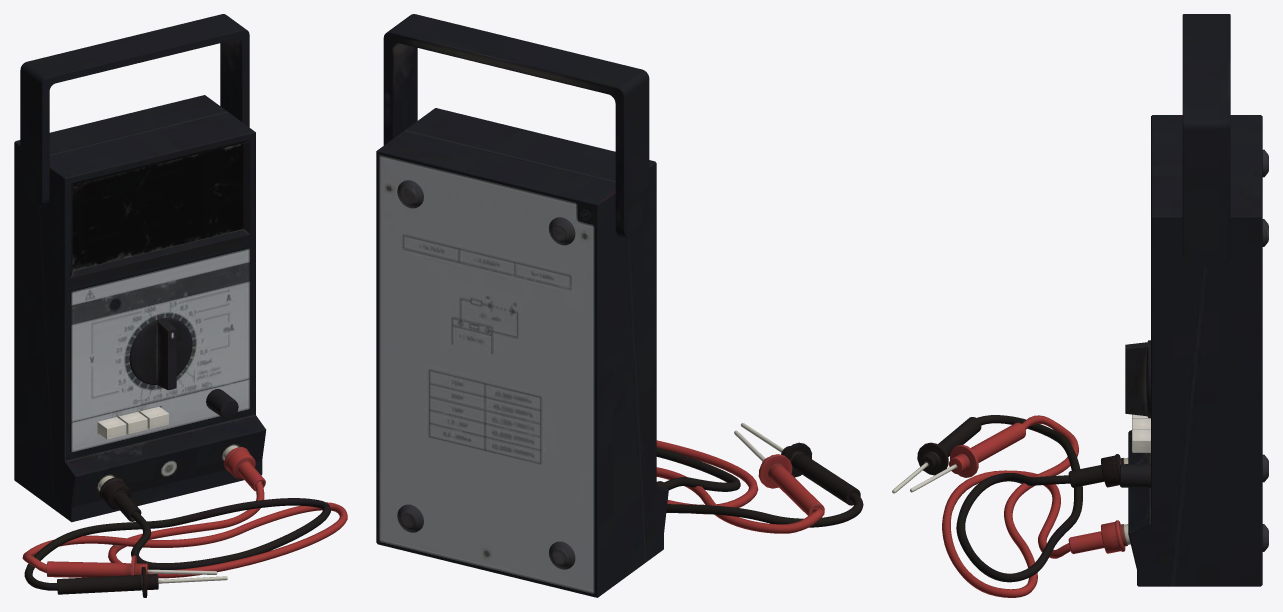
The model's file is retro_multimeter.glb.
3 renders of one model, left to right at view 1: azimuth 30°, elevation 25°; view 2: azimuth 150°, elevation 25°; view 3: azimuth 270°, elevation 25°, orthographic. The views are drawn at different scales.
Visible parts, largest first — view 1: retro_multimeter_LOD0; view 2: retro_multimeter_LOD0; view 3: retro_multimeter_LOD0.
Boxes of the visible parts, left/top/right/bottom form: retro_multimeter_LOD0: left=14, top=14, right=347, bottom=597; retro_multimeter_LOD0: left=376, top=14, right=863, bottom=597; retro_multimeter_LOD0: left=892, top=14, right=1268, bottom=597.
Size of the model in its own units: 0.216 by 0.2786 by 0.2026.
Materials: 2 (2 with a texture image).
